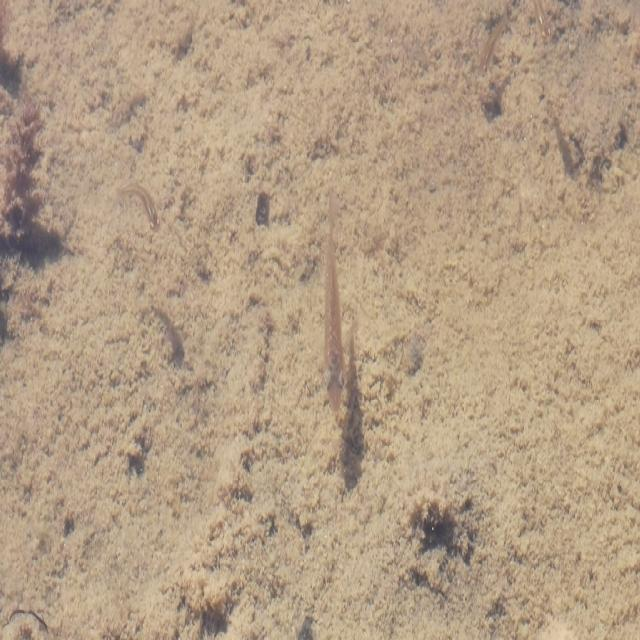Gunes Levregi: (322, 186, 346, 415)
